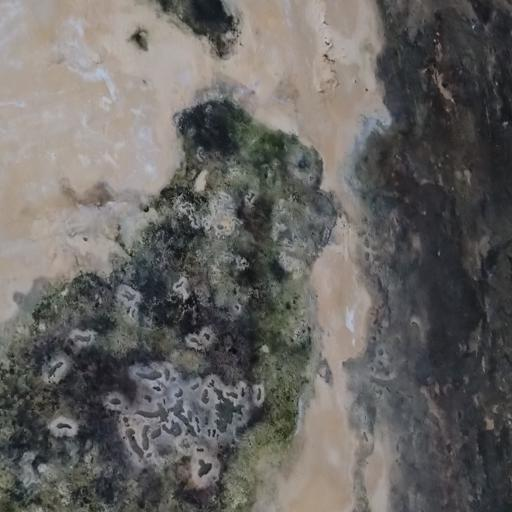algae: (1, 93, 348, 512)
